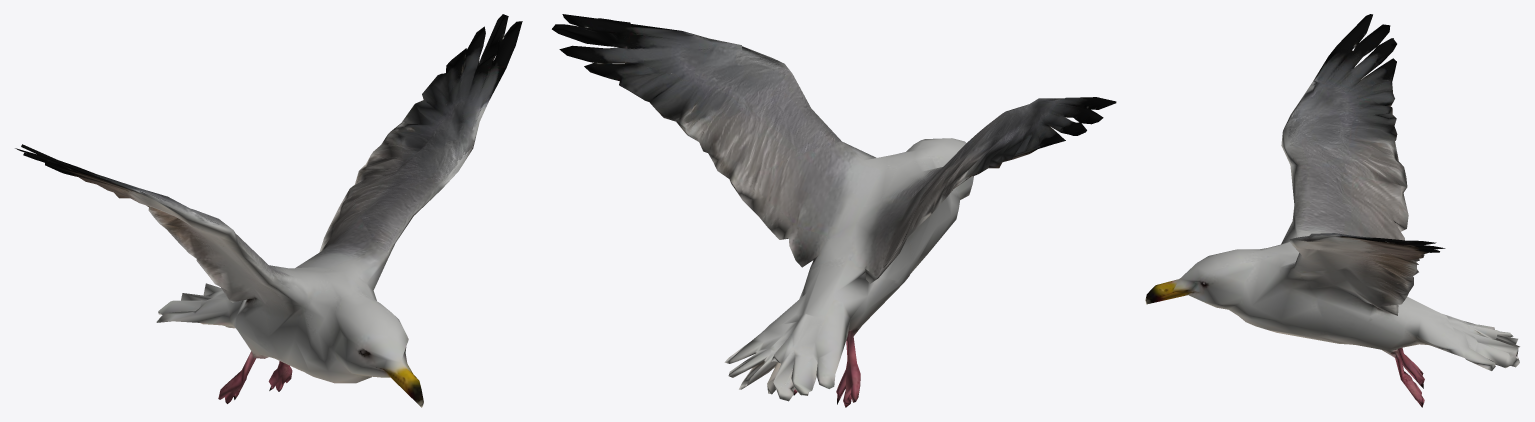
The model's file is gull.glb.
The picture shows the model from 3 angles, left to right: view 1: azimuth 30°, elevation 25°; view 2: azimuth 150°, elevation 25°; view 3: azimuth 270°, elevation 25°; orthographic projection. The views are drawn at different scales.
Parts seen in each view (by area): view 1: gull; view 2: gull; view 3: gull.
Part boxes in pixels (x1,y1,x2,y2): gull: (15, 14, 522, 407); gull: (552, 14, 1116, 407); gull: (1145, 14, 1519, 407).
Size of the model in its own units: 0.9996 by 0.6164 by 0.7523.
Materials: 1 (1 with a texture image).
